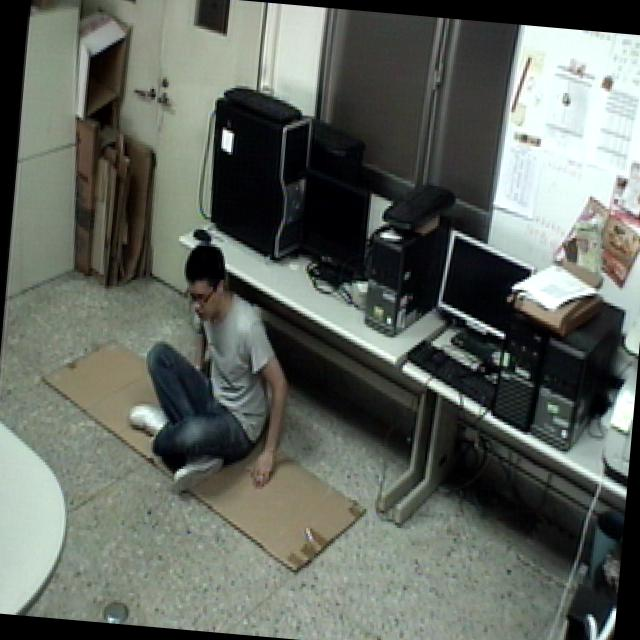sit: (108, 234, 308, 507)
